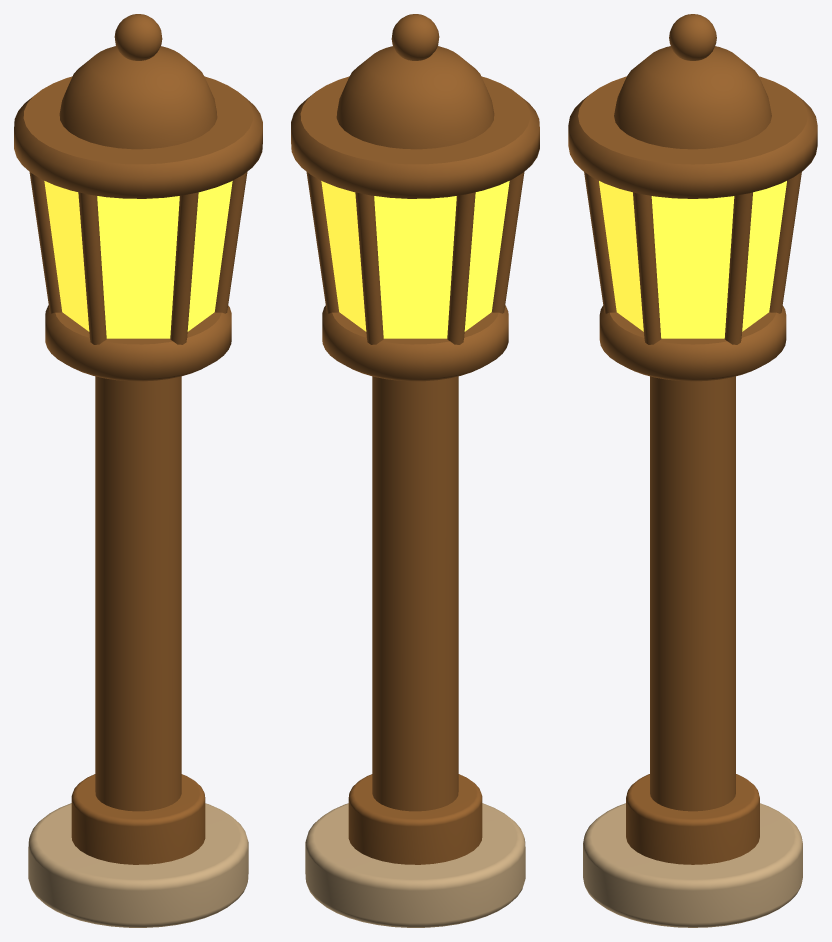
The model's file is honey_lantern_post.glb.
3 views of the same model, side by side, from view 1: azimuth 30°, elevation 25°; view 2: azimuth 150°, elevation 25°; view 3: azimuth 270°, elevation 25° (orthographic).
Visible parts, largest first — view 1: tall_post, stone_foot, wide_lantern_cap, domed_hat, glowing_glass_panel.003, post_socket, lantern_lower_rim, glowing_glass_panel.004, glowing_glass_panel.002, lantern_frame.004, lantern_frame.003, lantern_frame.005 (+2 smaller); view 2: tall_post, stone_foot, wide_lantern_cap, domed_hat, glowing_glass_panel.001, post_socket, lantern_lower_rim, glowing_glass_panel, glowing_glass_panel.002, lantern_frame.001, lantern_frame.002, lantern_frame (+2 smaller); view 3: tall_post, stone_foot, wide_lantern_cap, domed_hat, glowing_glass_panel.005, post_socket, lantern_lower_rim, glowing_glass_panel, glowing_glass_panel.004, lantern_frame, lantern_frame.005, lantern_frame.001 (+2 smaller).
Part boxes in pixels (bbox=[...]): tall_post: bbox=[95, 376, 181, 811]; stone_foot: bbox=[28, 803, 248, 927]; wide_lantern_cap: bbox=[14, 76, 262, 198]; domed_hat: bbox=[59, 46, 217, 149]; glowing_glass_panel.003: bbox=[97, 196, 179, 338]; post_socket: bbox=[71, 774, 205, 864]; lantern_lower_rim: bbox=[45, 305, 231, 381]; glowing_glass_panel.004: bbox=[187, 181, 232, 331]; glowing_glass_panel.002: bbox=[44, 181, 89, 331]; lantern_frame.004: bbox=[170, 192, 198, 344]; lantern_frame.003: bbox=[78, 192, 106, 344]; lantern_frame.005: bbox=[215, 171, 247, 313]; tall_post: bbox=[372, 376, 458, 811]; stone_foot: bbox=[305, 803, 525, 927]; wide_lantern_cap: bbox=[291, 76, 539, 198]; domed_hat: bbox=[336, 46, 494, 149]; glowing_glass_panel.001: bbox=[374, 196, 456, 338]; post_socket: bbox=[348, 774, 482, 864]; lantern_lower_rim: bbox=[322, 305, 508, 381]; glowing_glass_panel: bbox=[321, 181, 366, 331]; glowing_glass_panel.002: bbox=[464, 181, 509, 331]; lantern_frame.001: bbox=[355, 192, 383, 344]; lantern_frame.002: bbox=[447, 192, 475, 344]; lantern_frame: bbox=[306, 171, 338, 313]; tall_post: bbox=[650, 376, 735, 811]; stone_foot: bbox=[583, 803, 802, 927]; wide_lantern_cap: bbox=[568, 76, 817, 198]; domed_hat: bbox=[614, 46, 771, 149]; glowing_glass_panel.005: bbox=[651, 196, 734, 338]; post_socket: bbox=[626, 774, 759, 864]; lantern_lower_rim: bbox=[599, 305, 786, 381]; glowing_glass_panel: bbox=[742, 181, 786, 331]; glowing_glass_panel.004: bbox=[599, 181, 643, 331]; lantern_frame: bbox=[724, 192, 752, 344]; lantern_frame.005: bbox=[633, 192, 661, 344]; lantern_frame.001: bbox=[769, 172, 801, 313].
Size of the model in its own units: 0.52 by 2 by 0.52.
